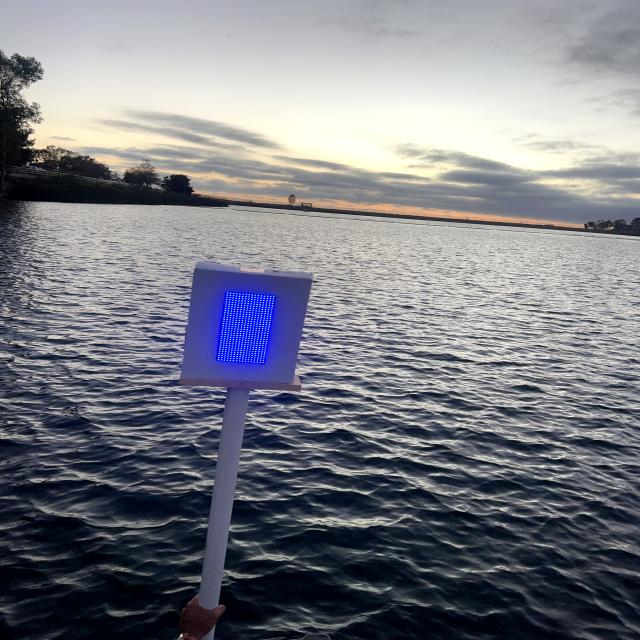led: (200, 275, 294, 383)
